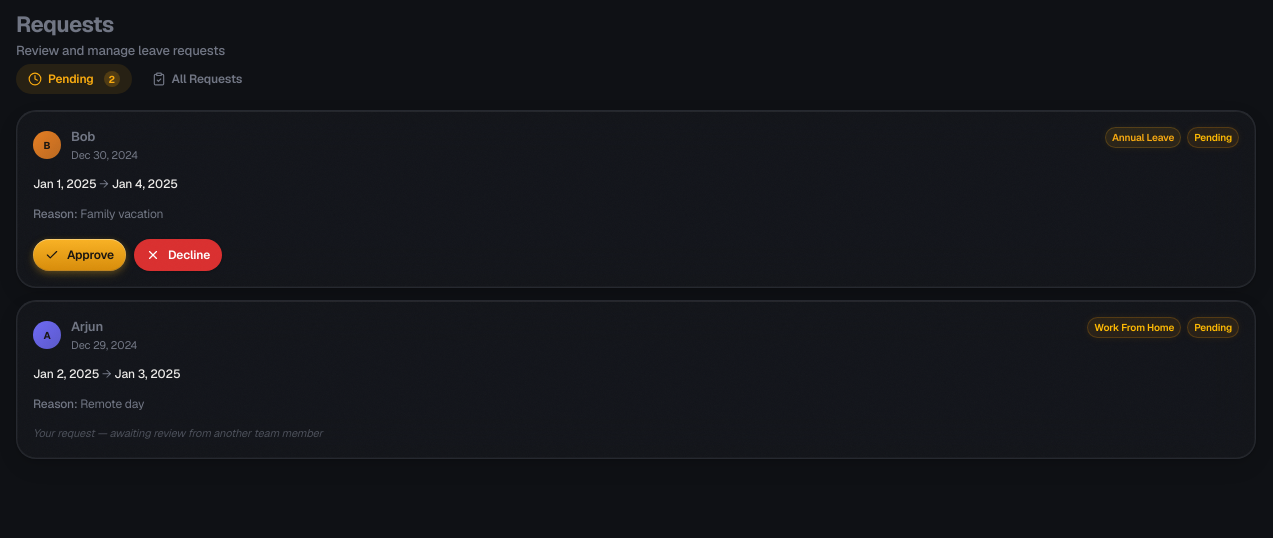
Test: RequestsScreen › shows decline reason input when Decline is clicked (Req 7.3)
Click the button "Decline" at (178, 255), box [134,239,222,271]
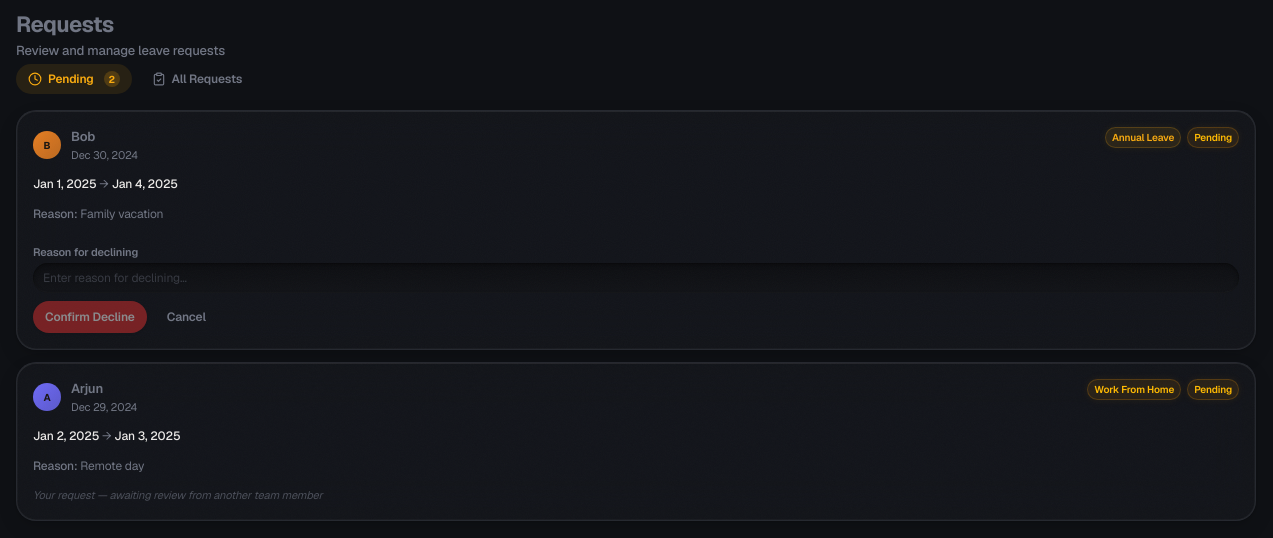
expect the button "Confirm Decline" is shown: met, box [33,301,147,333]
expect the field with placeholder "Enter reason for declining..." is shown: met, box [33,263,1239,293]
